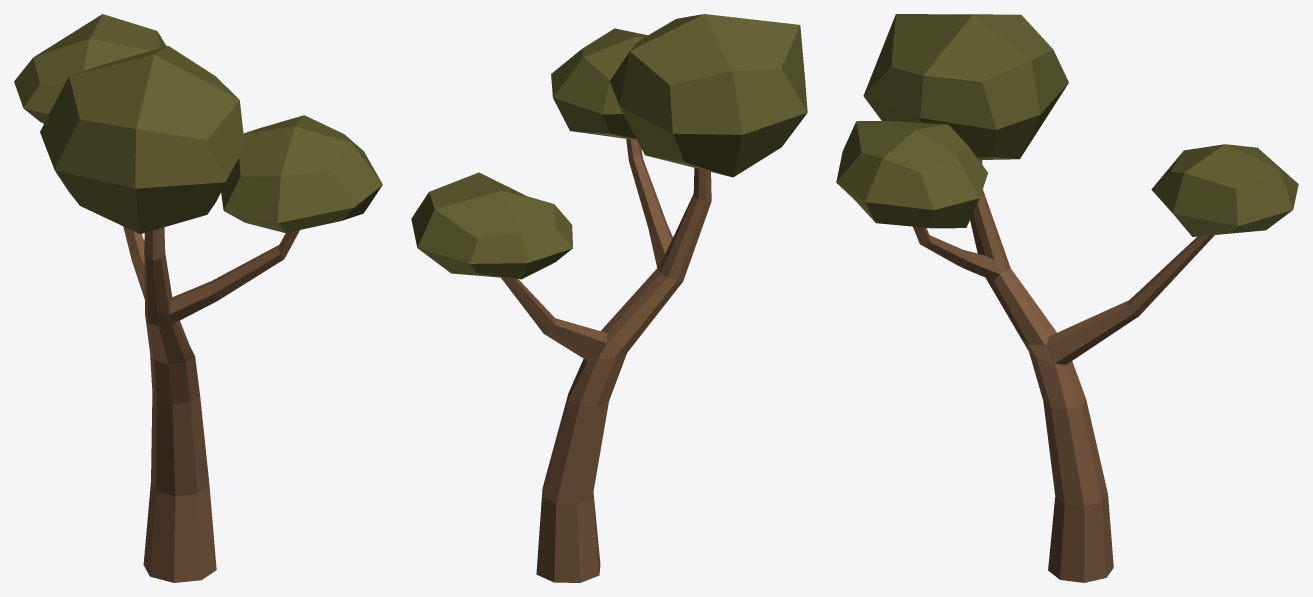
Rendered from Isl_6_Tree_1.fbx.
The picture shows the model from 3 angles, left to right: view 1: azimuth 30°, elevation 25°; view 2: azimuth 150°, elevation 25°; view 3: azimuth 270°, elevation 25°; orthographic projection. The views are drawn at different scales.
Parts seen in each view (by area): view 1: Isl_6_Tree_1; view 2: Isl_6_Tree_1; view 3: Isl_6_Tree_1.
Part boxes in pixels (x1,y1,x2,y2): Isl_6_Tree_1: (14, 14, 382, 582); Isl_6_Tree_1: (411, 14, 807, 582); Isl_6_Tree_1: (836, 14, 1298, 582).
Bounding box in the file's own units: 330 × 504 × 620.
1 material, 1 textured.
